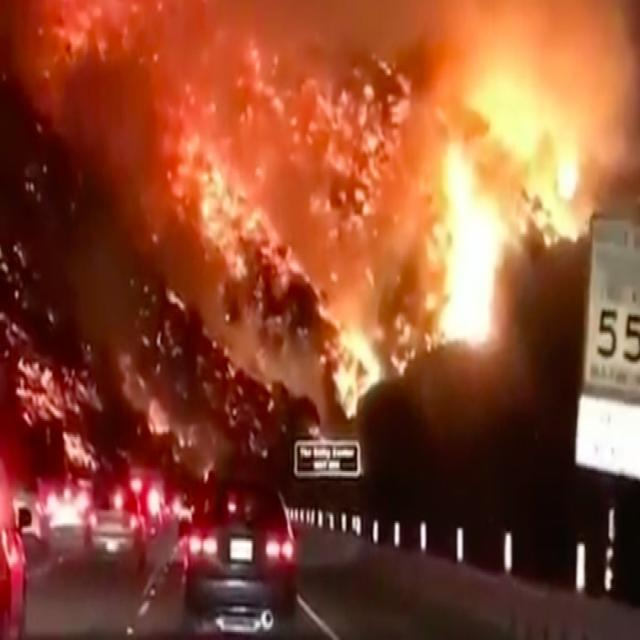Fire: (421, 157, 513, 361), (496, 78, 588, 248), (291, 266, 380, 399)
